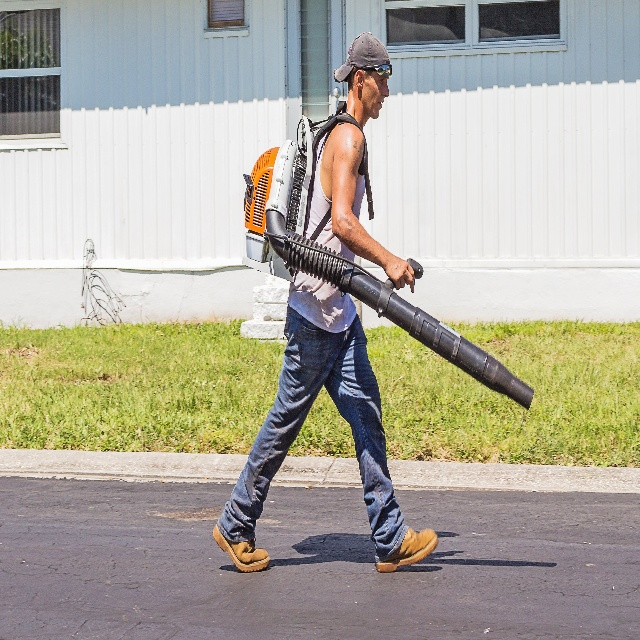Gafas: (364, 60, 393, 76)
Sin_guantes: (388, 253, 416, 293)
